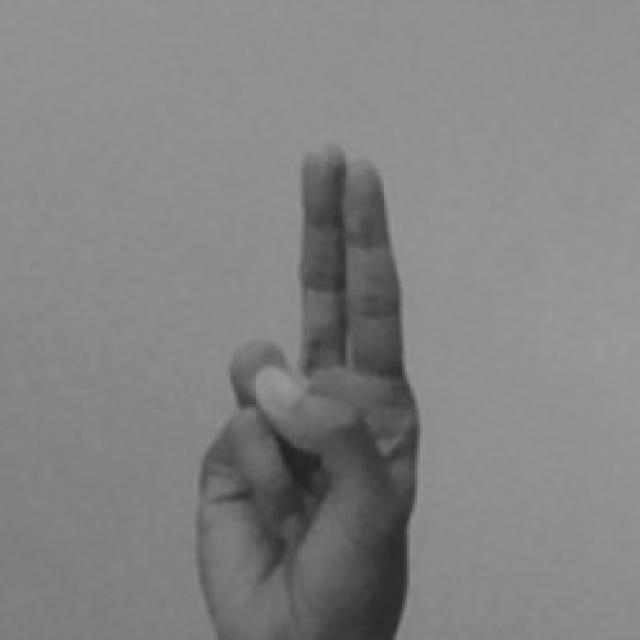U: (176, 133, 428, 640)
